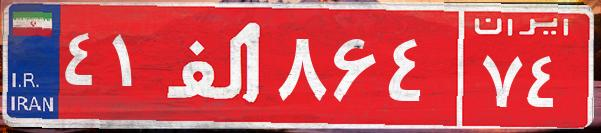1: (110, 28, 158, 105)
4: (385, 28, 445, 110), (57, 26, 110, 107), (525, 38, 570, 115)
6: (330, 28, 385, 110)
7: (475, 38, 525, 113)
8: (273, 28, 330, 110)
الف: (158, 15, 273, 115)
